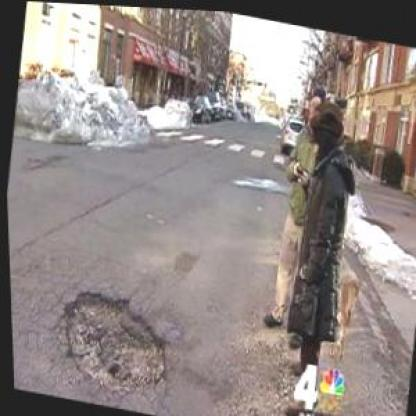pothole: (48, 280, 174, 397)
